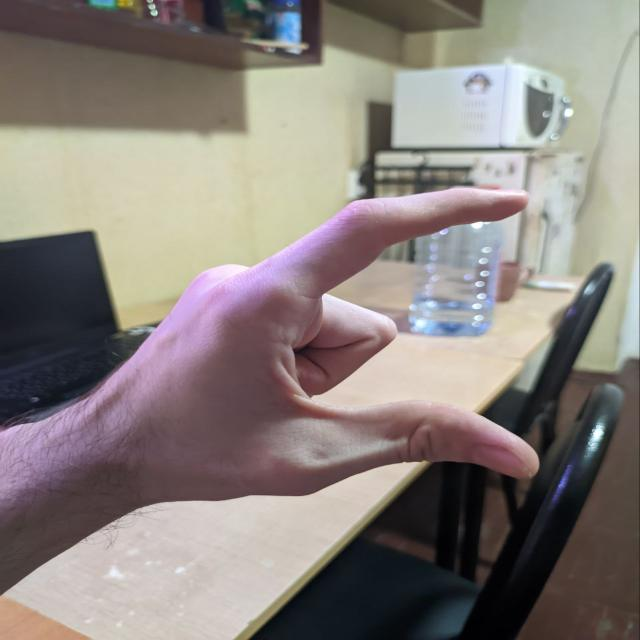uh: (133, 186, 556, 498)
